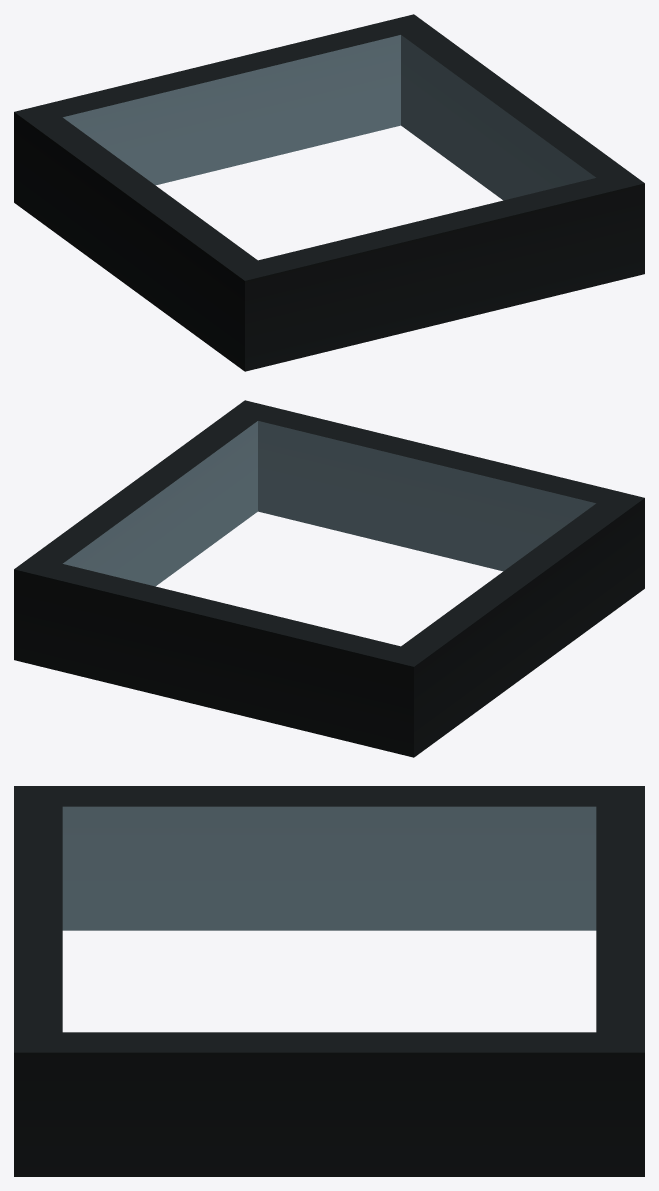
File: Roof Box.fbx
3 renders of one model, top to bottom at view 1: azimuth 30°, elevation 25°; view 2: azimuth 150°, elevation 25°; view 3: azimuth 270°, elevation 25°, orthographic. The views are drawn at different scales.
Parts seen in each view (by area): view 1: Roof Box; view 2: Roof Box; view 3: Roof Box.
Boxes of the visible parts, bbox=[...] form: Roof Box: bbox=[14, 14, 644, 371]; Roof Box: bbox=[14, 400, 644, 757]; Roof Box: bbox=[14, 786, 644, 1176].
Size of the model in its own units: 500 by 108 by 500.
